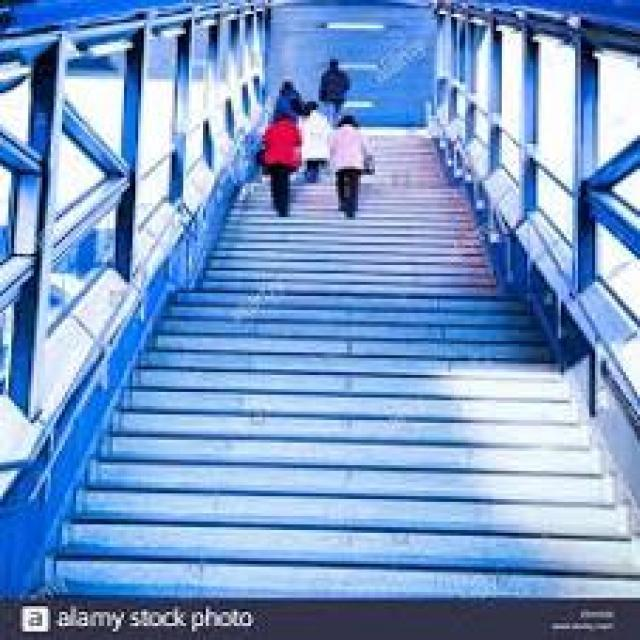stair: (31, 367, 623, 601)
